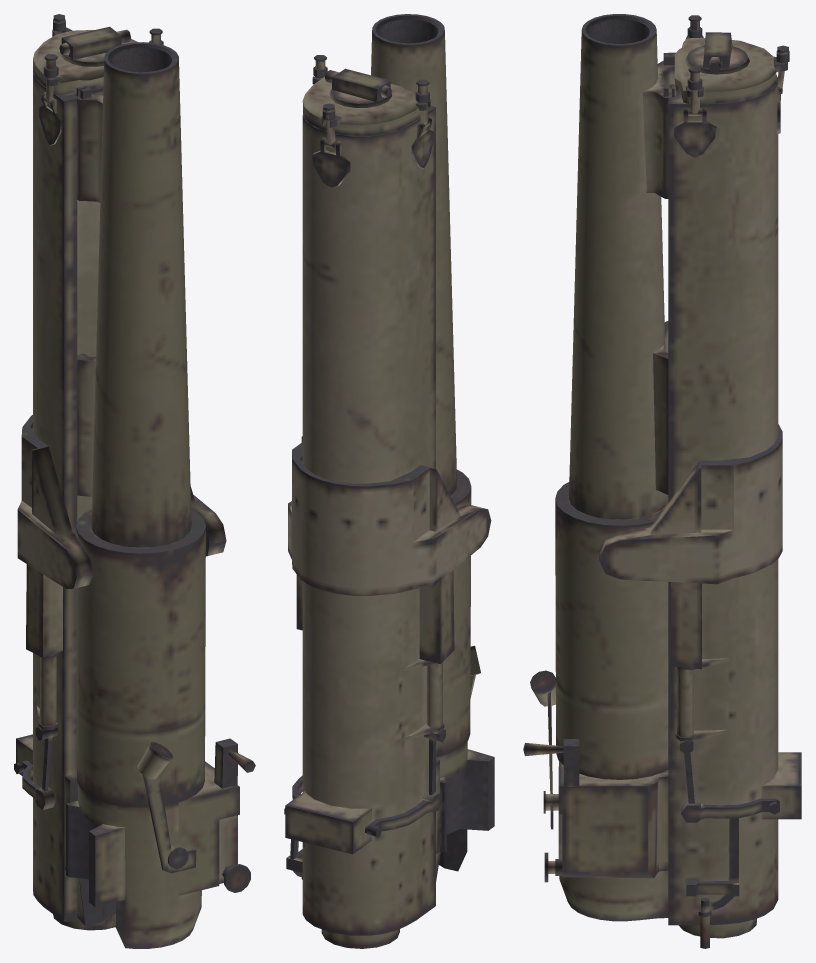
The model's file is Gun_01.glb.
3 views of the same model, side by side, from view 1: azimuth 30°, elevation 25°; view 2: azimuth 150°, elevation 25°; view 3: azimuth 270°, elevation 25° (orthographic). The views are drawn at different scales.
Visible parts, largest first — view 1: set_0_group_0; view 2: set_0_group_0; view 3: set_0_group_0.
Boxes of the visible parts, bbox=[...] form: set_0_group_0: bbox=[14, 14, 255, 948]; set_0_group_0: bbox=[284, 14, 494, 948]; set_0_group_0: bbox=[523, 14, 801, 948].
Bounding box in the file's own units: 0.3199 × 1.82 × 0.5156.
Materials: 1 (1 with a texture image).
